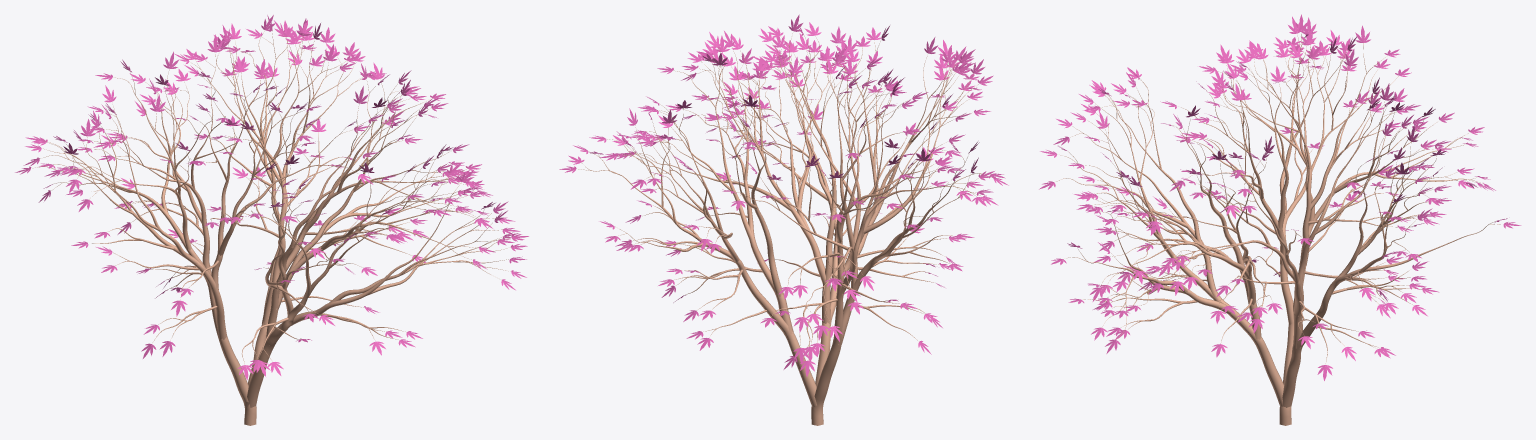
The model's file is pinktree.glb.
3 views of the same model, side by side, from view 1: azimuth 30°, elevation 25°; view 2: azimuth 150°, elevation 25°; view 3: azimuth 270°, elevation 25° (orthographic).
Parts seen in each view (by area): view 1: tree, leaves; view 2: tree, leaves; view 3: tree, leaves.
Part boxes in pixels (x1,y1,x2,y2): tree: (32, 30, 510, 425); leaves: (15, 15, 528, 379); tree: (578, 33, 991, 425); leaves: (559, 14, 1008, 376); tree: (1056, 34, 1500, 425); leaves: (1039, 14, 1521, 380).
Size of the model in its own units: 10.45 by 9.07 by 10.89.
